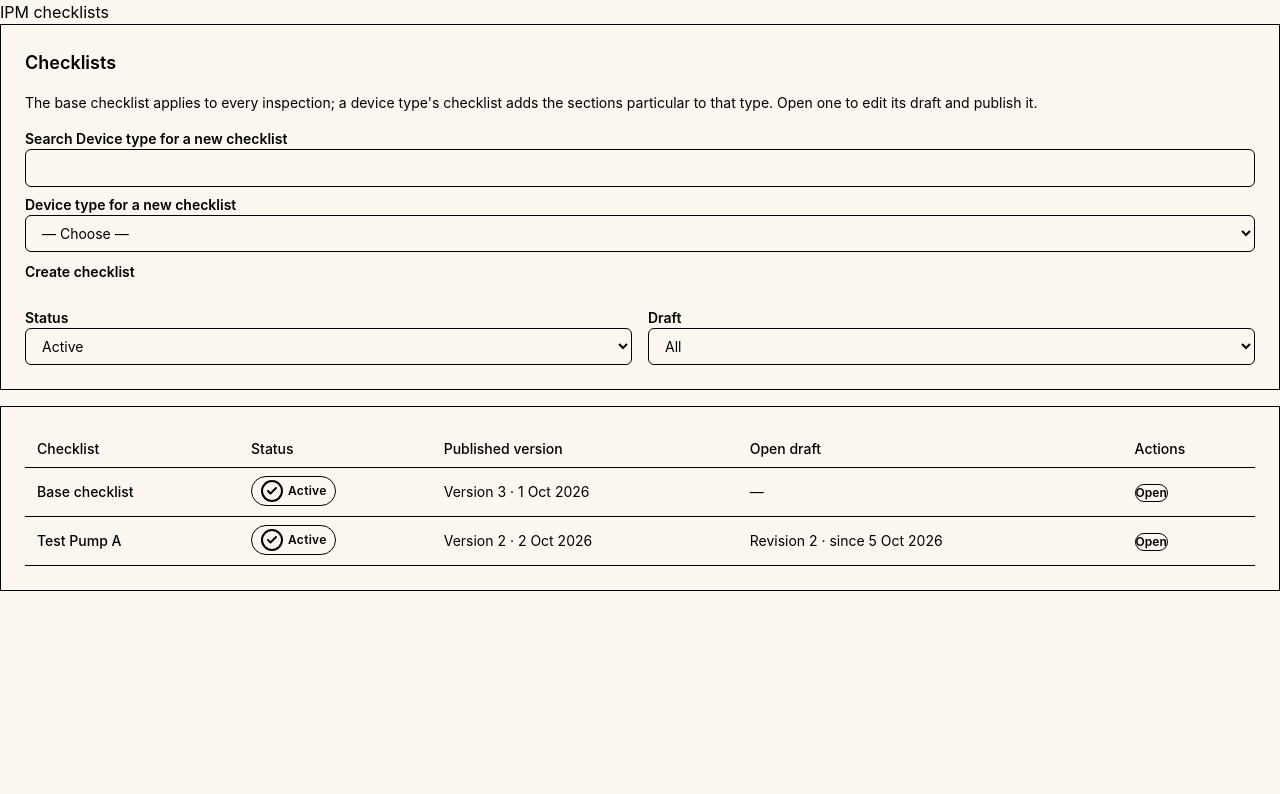
Test: P22-01 — the operator's checklists › discards the draft after a confirmation
Click the button with aria-label "Open Test Pump A" at (1151, 542), box [1135, 533, 1168, 551]
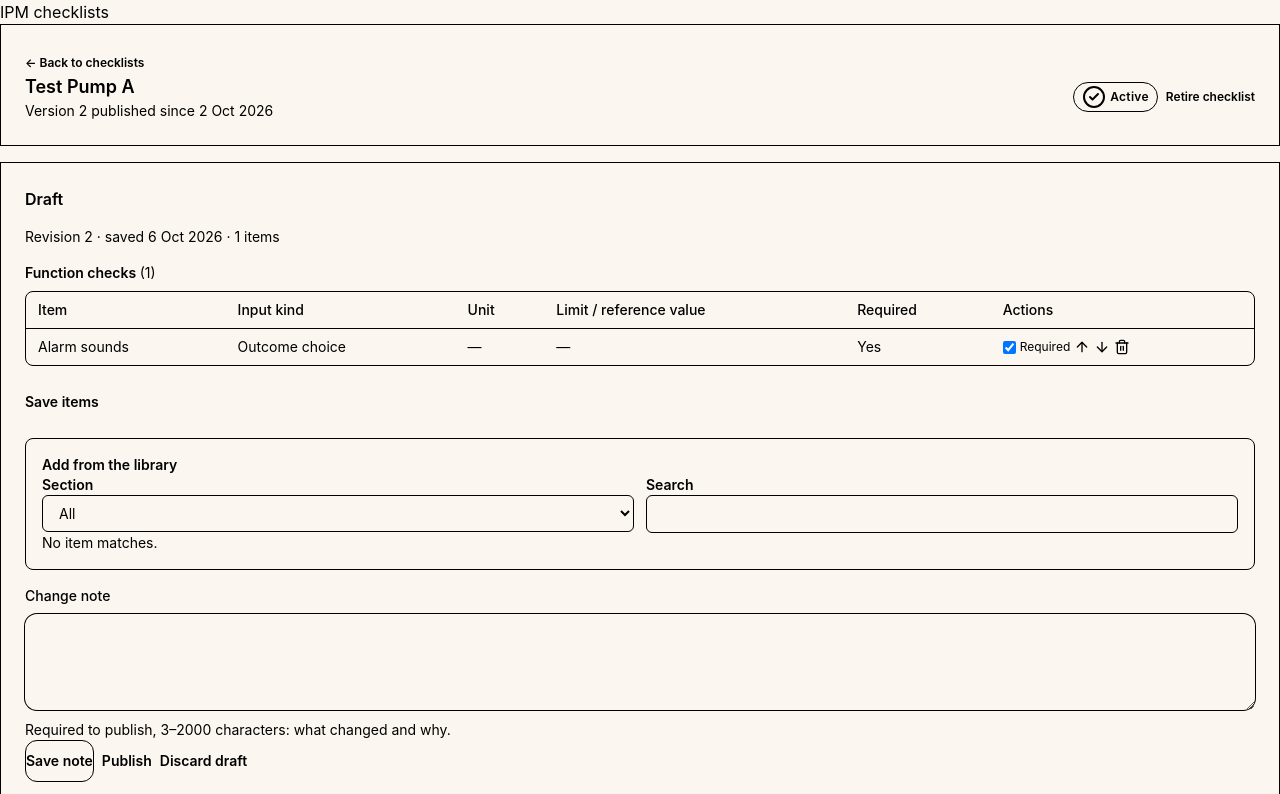
Click the button "Discard draft" at (204, 761), box [160, 740, 247, 782]
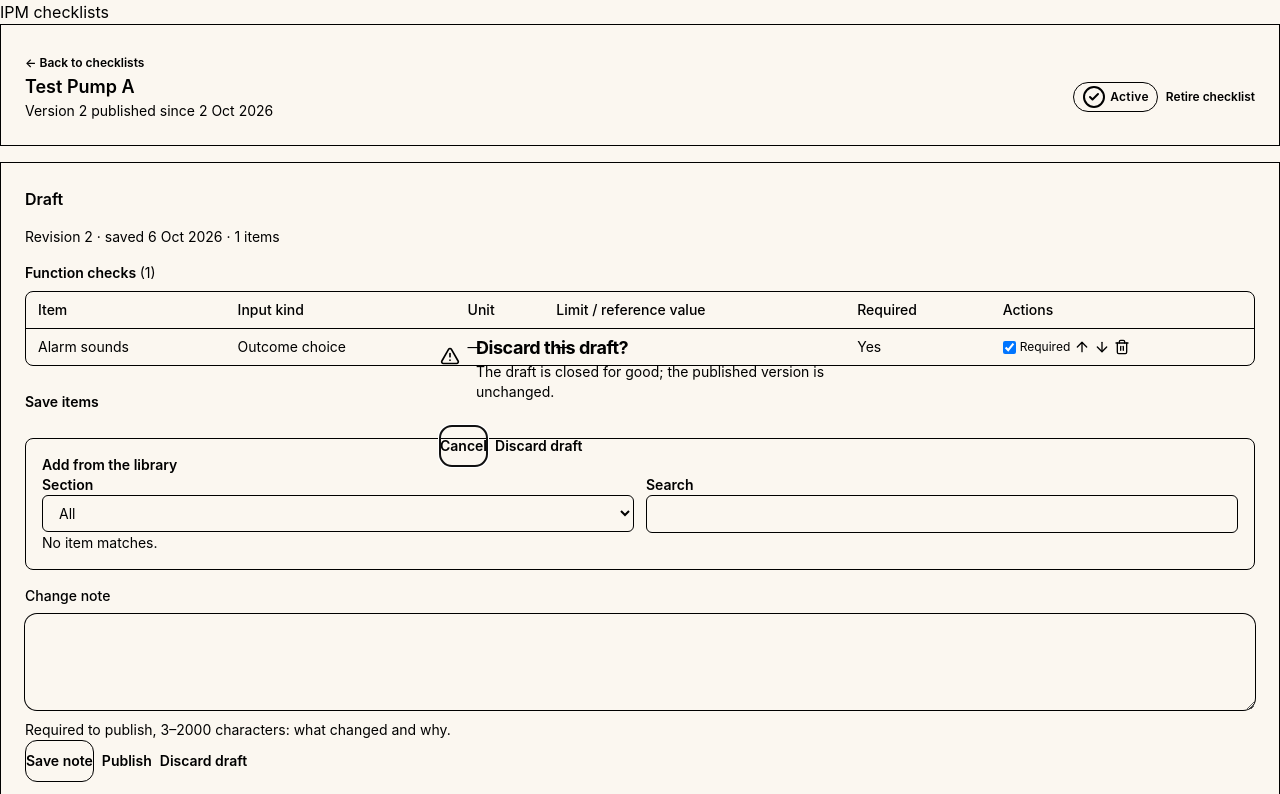
Click the button "Discard draft" at (539, 446), box [495, 426, 582, 466]
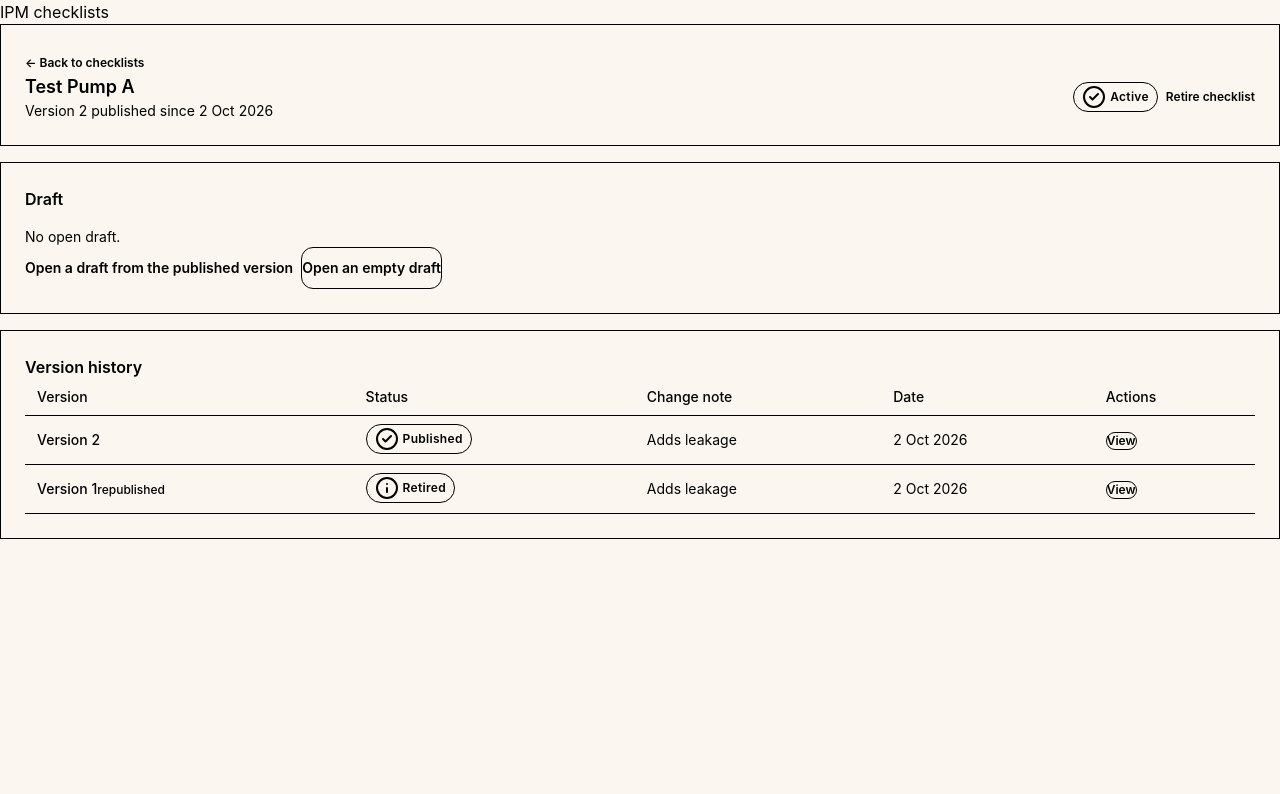
Expected: the text "No open draft." is shown, [25, 228, 120, 245]
Click the button "Open a draft from the published version" at (159, 268), box [25, 247, 293, 289]
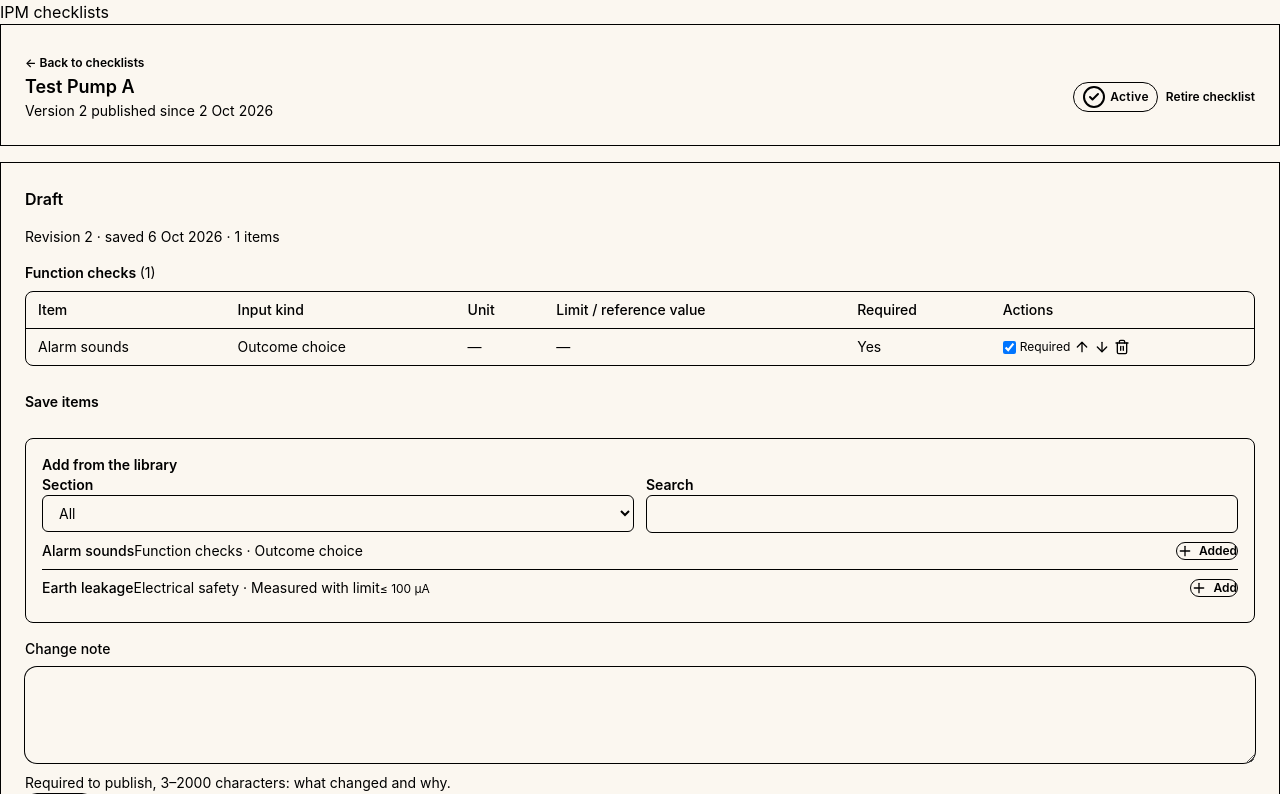
Expected: the element "Function checks" is shown, [25, 263, 1255, 366]
